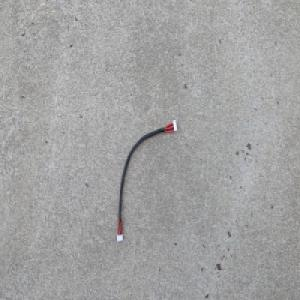Wire: (115, 117, 178, 242)
